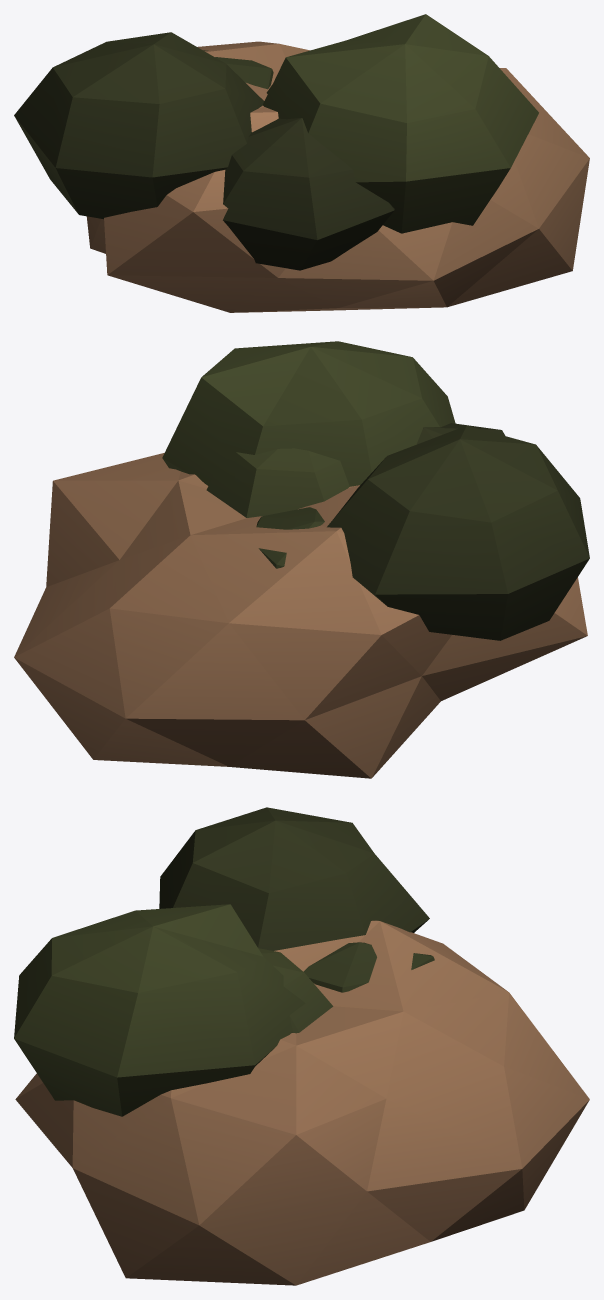
File: props.glb
3 renders of one model, top to bottom at view 1: azimuth 30°, elevation 25°; view 2: azimuth 150°, elevation 25°; view 3: azimuth 270°, elevation 25°, orthographic. The views are drawn at different scales.
Parts seen in each view (by area): view 1: Prop_Shrub, Prop_Rock; view 2: Prop_Rock, Prop_Shrub; view 3: Prop_Rock, Prop_Shrub.
Part boxes in pixels (x1,y1,x2,y2): Prop_Shrub: (14,14,538,270); Prop_Rock: (86,41,589,312); Prop_Rock: (14,453,587,778); Prop_Shrub: (162,341,589,640); Prop_Rock: (15,920,589,1285); Prop_Shrub: (14,807,434,1116).
Size of the model in its own units: 2.49 by 1.22 by 2.29.
